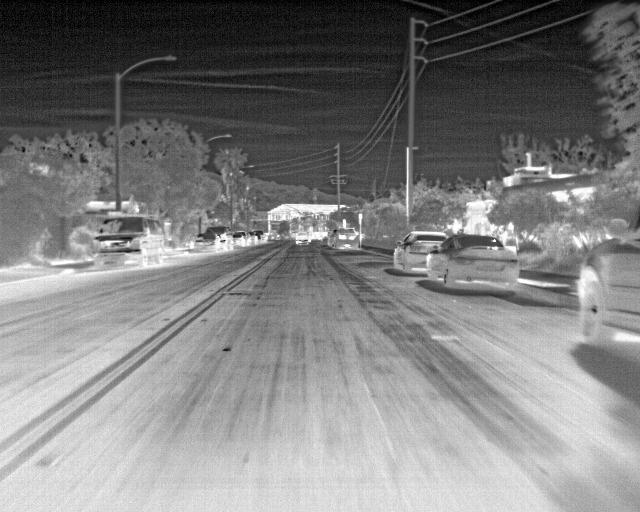car: (578, 251, 639, 348), (427, 234, 519, 296), (88, 216, 165, 269), (390, 230, 450, 274), (192, 227, 226, 251), (329, 227, 358, 251), (214, 226, 233, 248), (233, 230, 247, 247), (255, 229, 270, 244), (293, 232, 310, 245), (244, 230, 258, 245)
